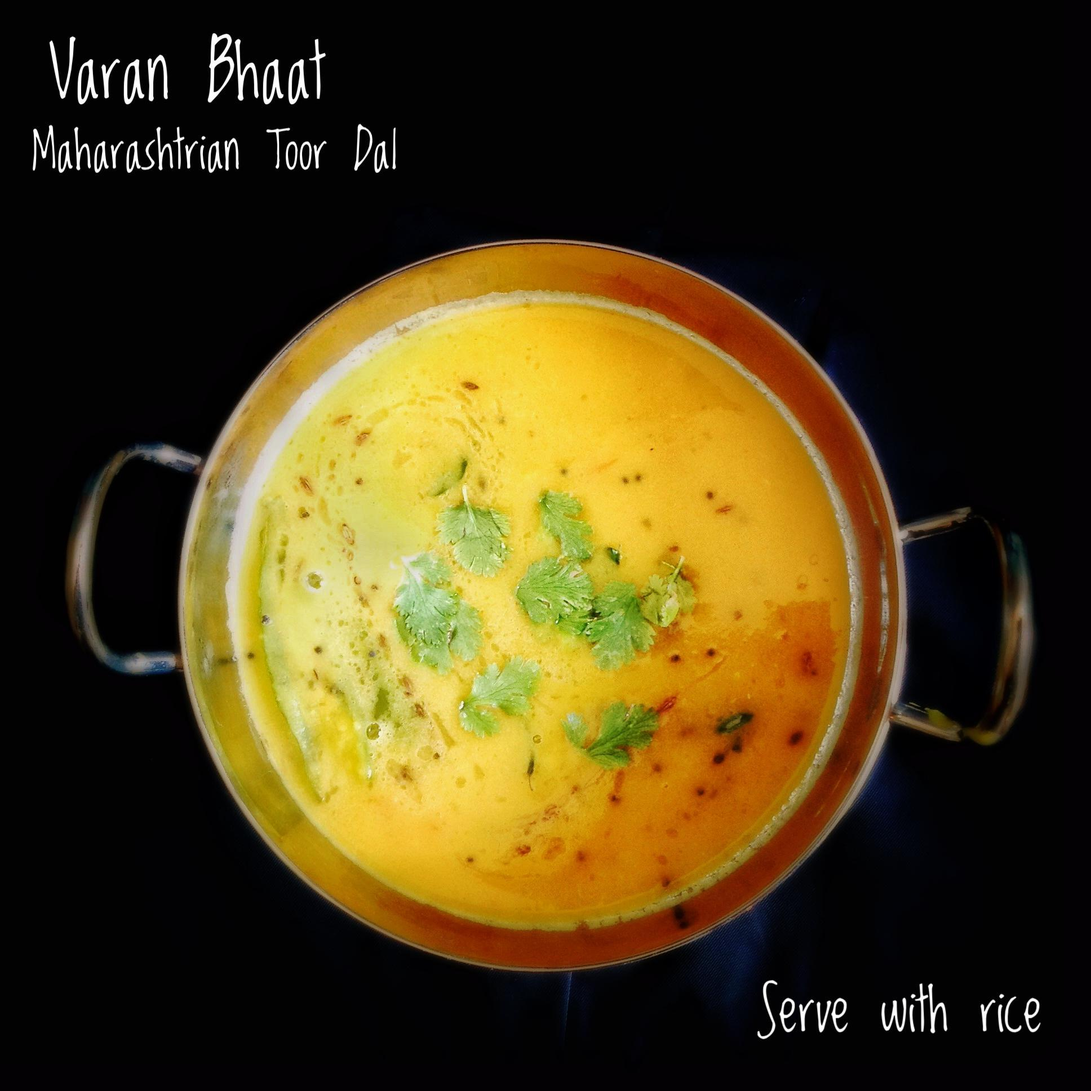varan: (232, 350, 855, 870)
